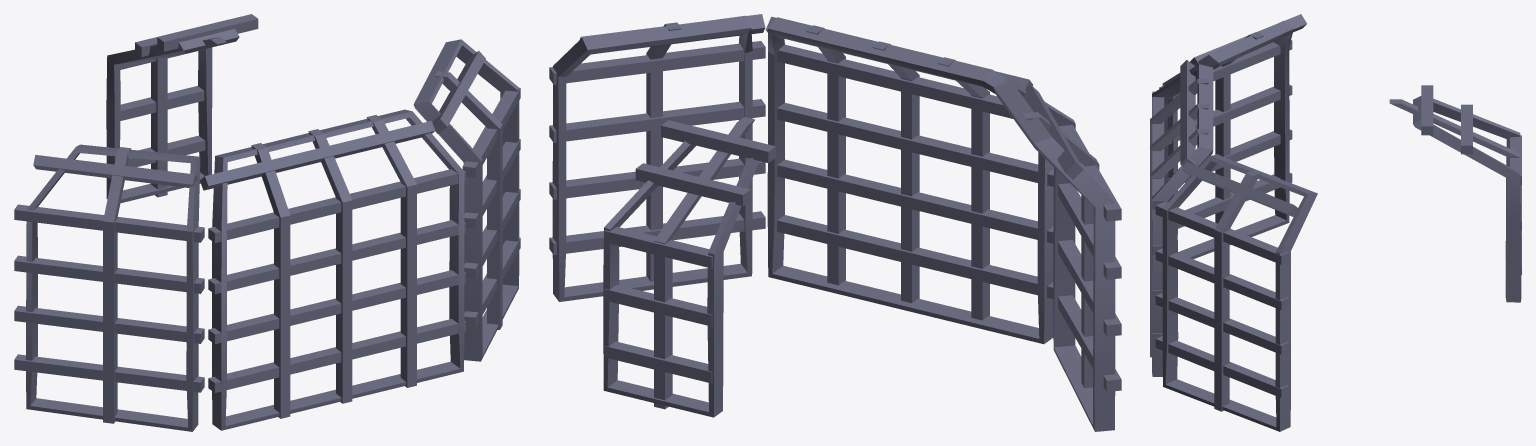
File: poutre.fbx
3 renders of one model, left to right at view 1: azimuth 30°, elevation 25°; view 2: azimuth 150°, elevation 25°; view 3: azimuth 270°, elevation 25°, orthographic. The views are drawn at different scales.
Visible parts, largest first — view 1: poutre_metal; view 2: poutre_metal; view 3: poutre_metal.
Boxes of the visible parts, <box> form: poutre_metal: <box>14,14,520,431</box>; poutre_metal: <box>549,14,1121,431</box>; poutre_metal: <box>1150,14,1521,431</box>.
Size of the model in its own units: 11.13 by 5.44 by 7.99.
